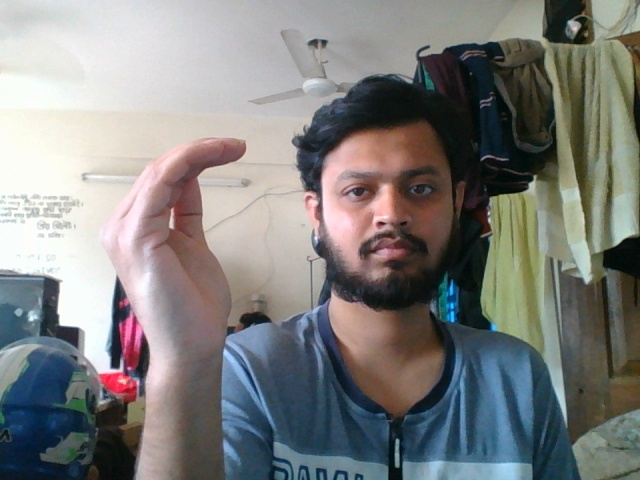ga: (97, 127, 267, 414)
